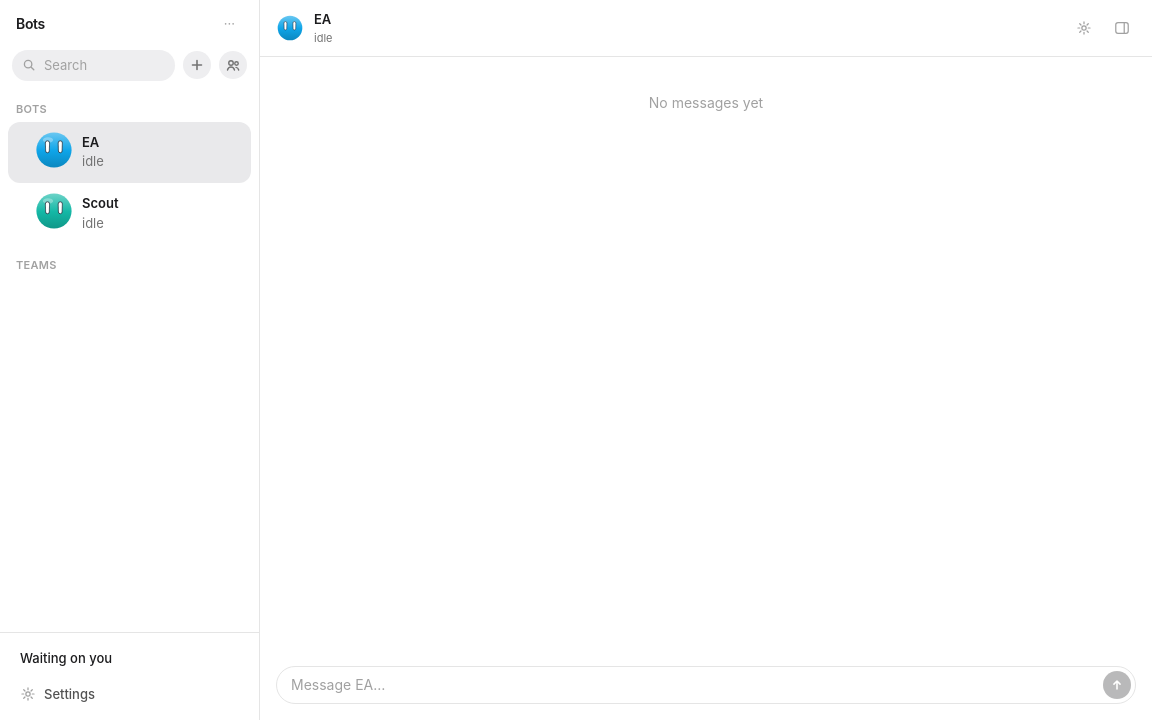
Test: App › creates a team through the New Team modal and chats in the group thread
Click the button named "New Team".
click(233, 65)  # box [219,51,247,79]
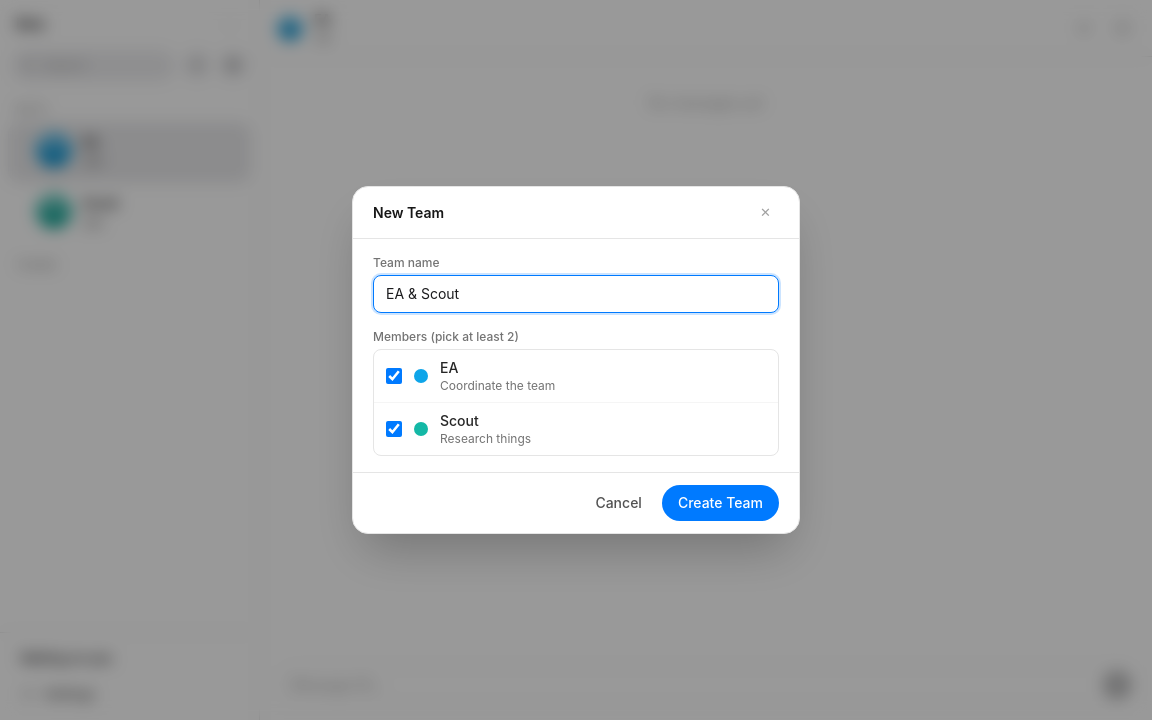
Now the checkbox labelled "EA" is checked, box [386,368,402,384]
Now the checkbox labelled "Scout" is checked, box [386,421,402,437]
Replace the text in the field labelled "Team name" with "Q3 Push" at (576, 294), box [373,275,779,313]
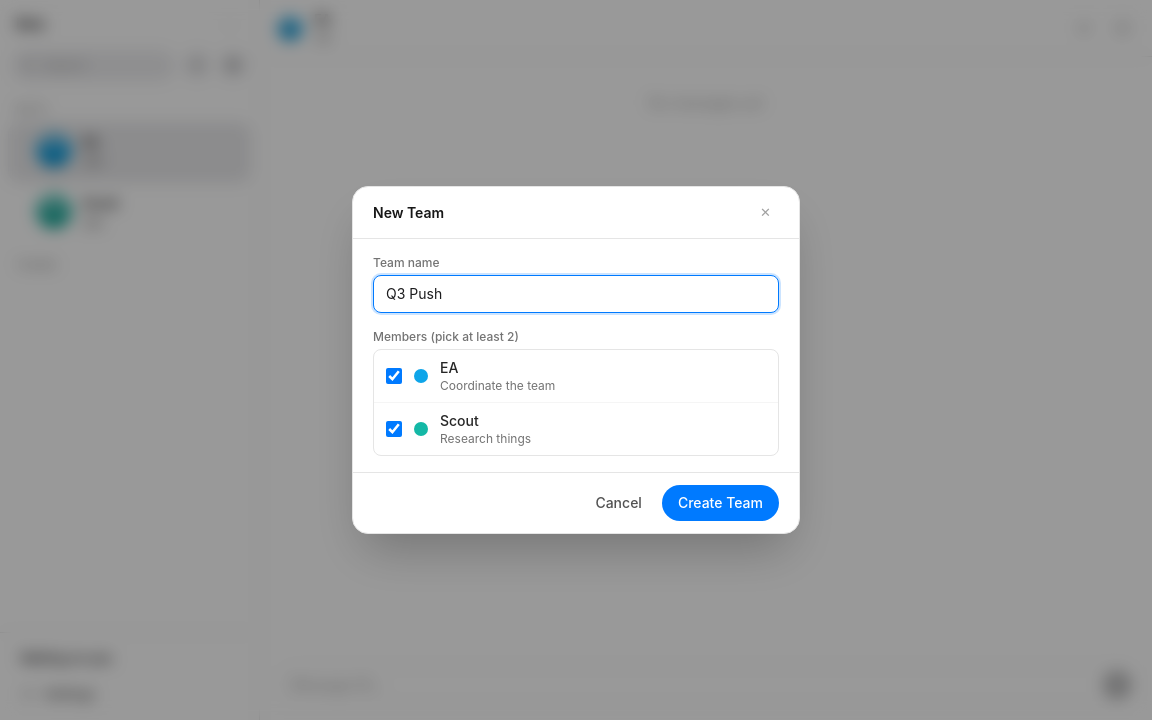
Click the button "Create Team".
click(720, 503)  # box [662,485,779,521]
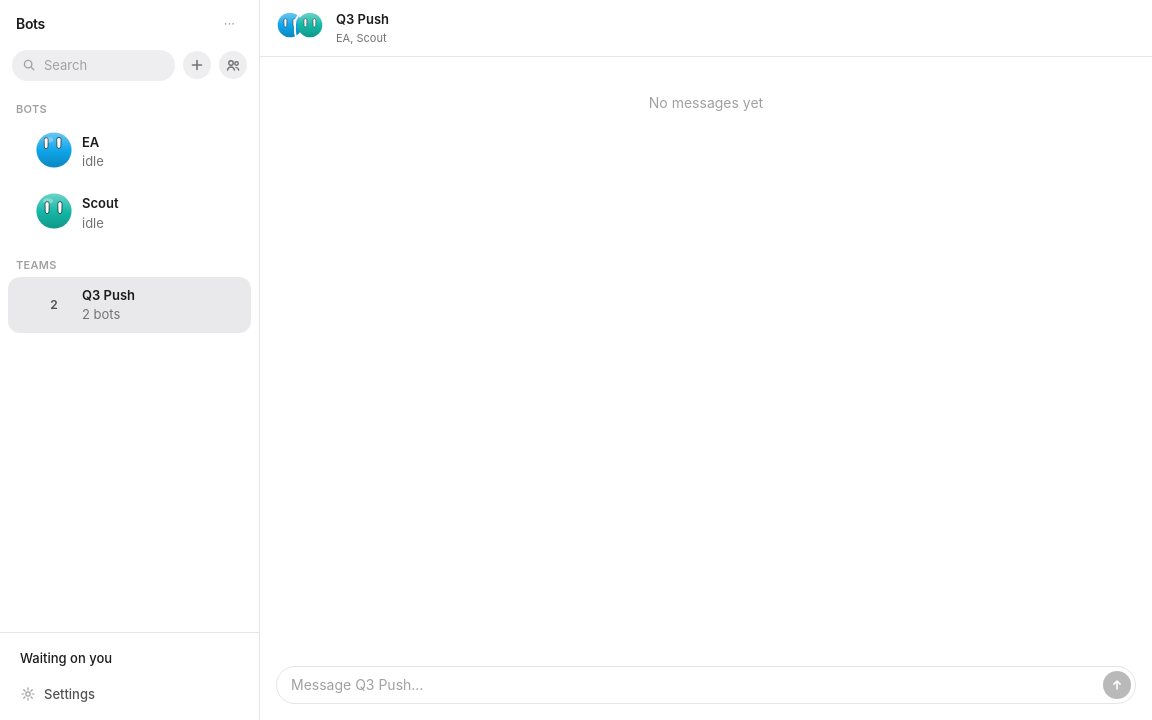
Now the dialog is gone
Now the heading "Q3 Push" is shown, box [336,11,389,27]
Now the navigation bar "Bots" shows "Q3 Push", box [8,277,251,333]
Note: Messaging the team routes to the coordinator, whose reply is attributed.
Type "Team, go" into the text box labelled "Message".
click(688, 685); type("Team, go")  # box [277,667,1099,703]
Then press Enter
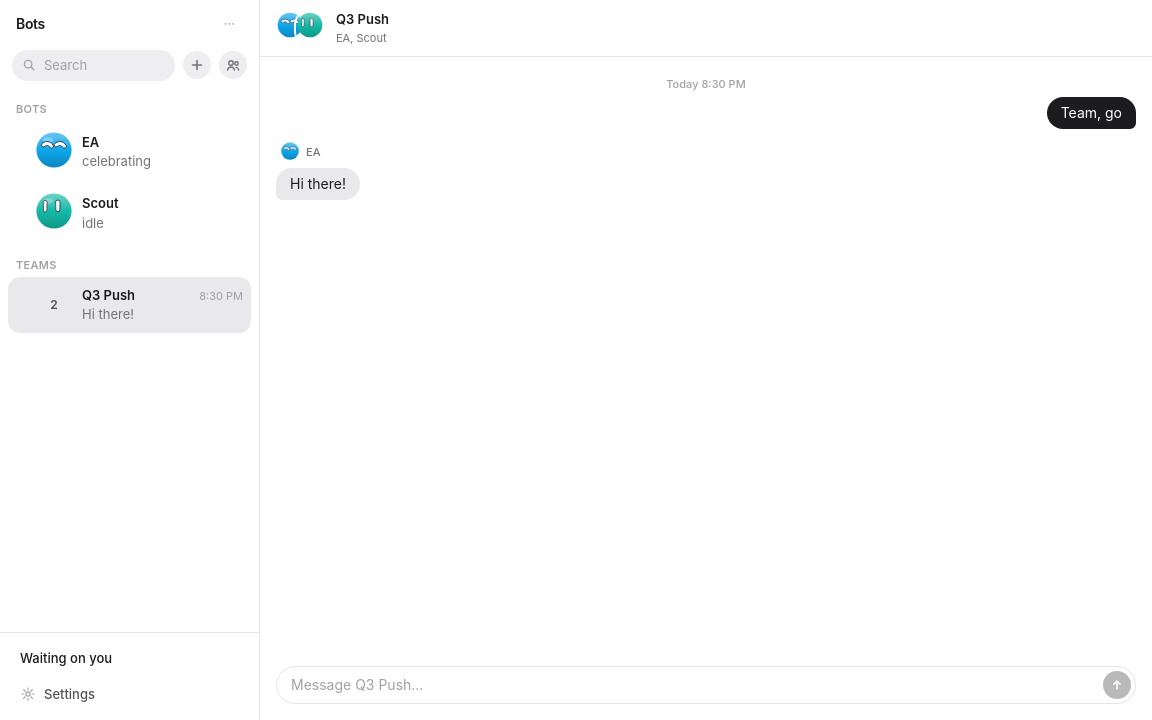
Now the 1st text "Hi there!" is shown, box [290,174,346,194]
Now the text with test id "message-author" reads "EA", box [306,145,320,159]
